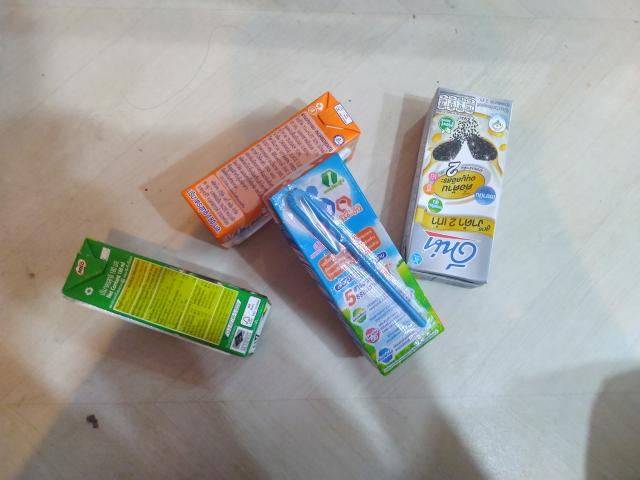drink_box: (46, 220, 297, 385), (263, 153, 444, 378), (172, 78, 374, 252), (396, 83, 529, 303)
